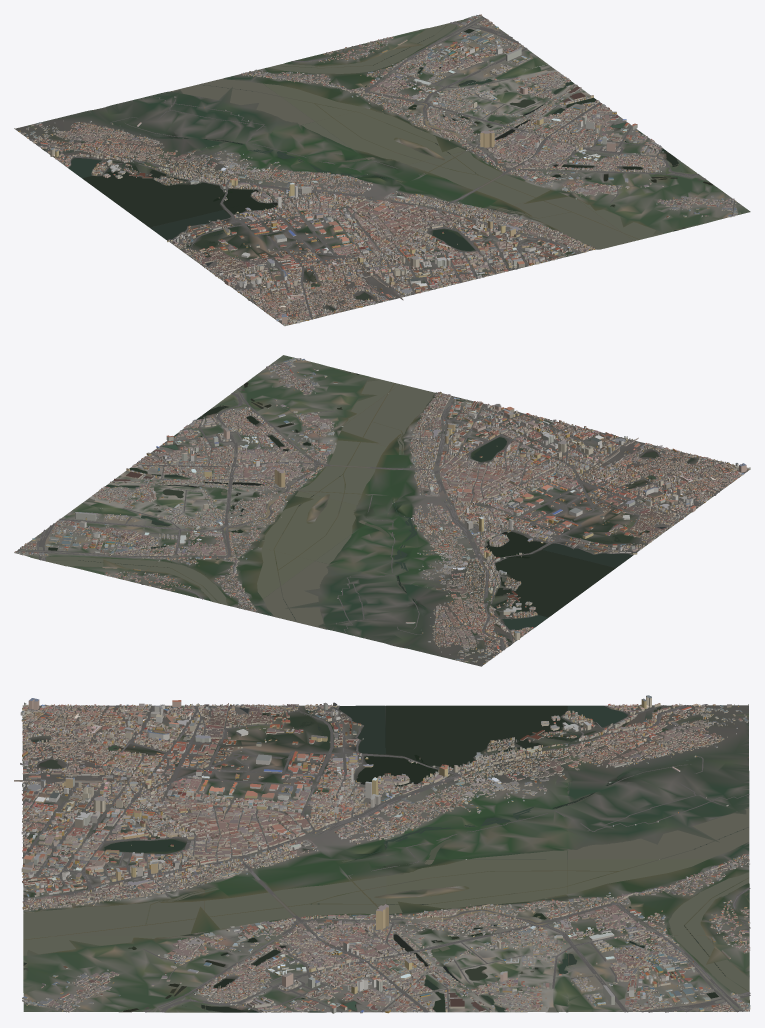
The picture shows the model from 3 angles, top to bottom: view 1: azimuth 30°, elevation 25°; view 2: azimuth 150°, elevation 25°; view 3: azimuth 270°, elevation 25°; orthographic projection. The views are drawn at different scales.
Visible parts, largest first — view 1: ground, buildings, water, roads; view 2: ground, buildings, water, roads; view 3: ground, buildings, water, roads.
Part boxes in pixels (x1,y1,x2,y2): ground: (15,16,750,325); buildings: (14,14,740,325); water: (42,20,713,310); roads: (34,16,735,319); ground: (14,355,749,666); buildings: (14,357,750,666); water: (32,368,693,648); roads: (16,360,723,661); ground: (22,705,749,1012); buildings: (14,695,750,1013); water: (23,705,749,1012); roads: (22,705,750,1012).
Bounding box in the file's own units: 5644 × 171 × 5690.
